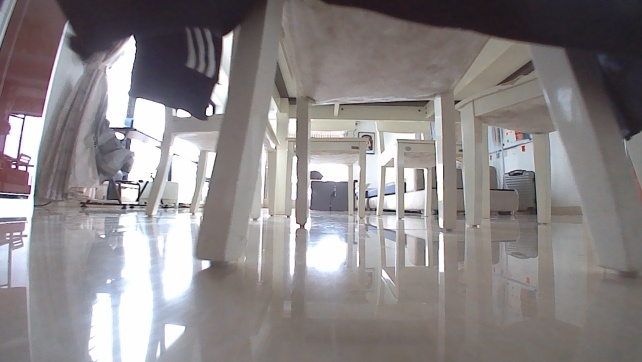dining_table1: (140, 0, 641, 288)
sofa1: (362, 160, 519, 219)
